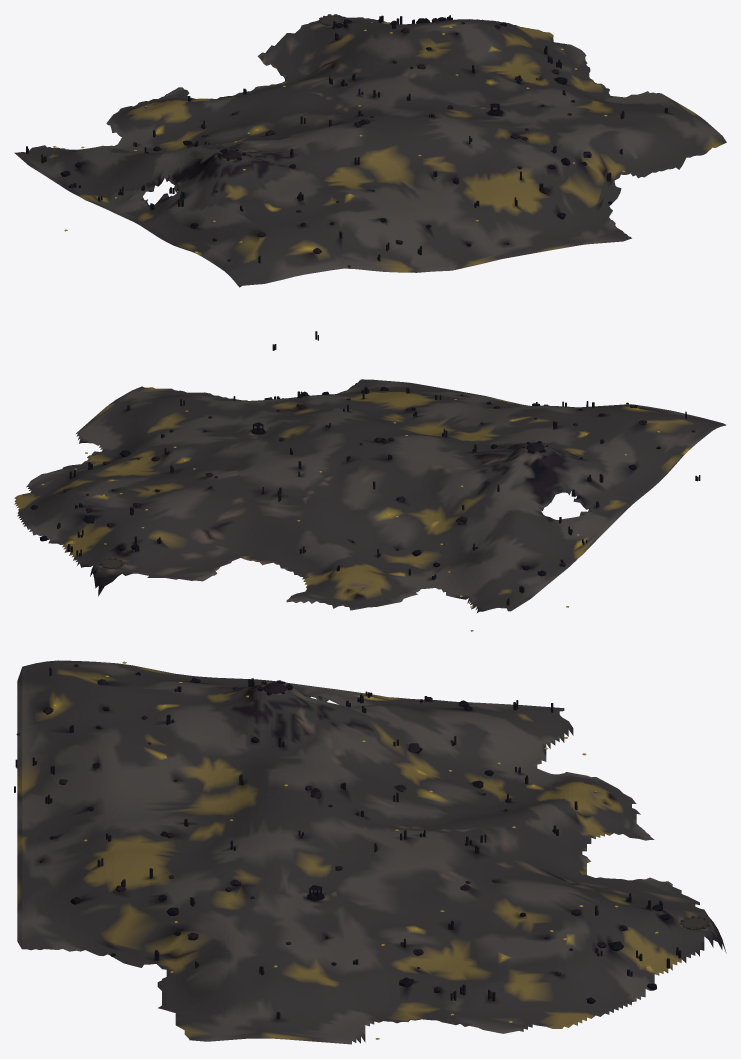
Rendered from ash_isl_vent_lod1.glb.
3 renders of one model, top to bottom at view 1: azimuth 30°, elevation 25°; view 2: azimuth 150°, elevation 25°; view 3: azimuth 270°, elevation 25°, orthographic. The views are drawn at different scales.
Parts seen in each view (by area): view 1: geometry_0; view 2: geometry_0; view 3: geometry_0.
Boxes of the visible parts, <box> form: geometry_0: <box>14,14,726,350</box>; geometry_0: <box>14,379,726,631</box>; geometry_0: <box>14,660,726,1044</box>.
Size of the model in its own units: 341 by 59.42 by 316.
